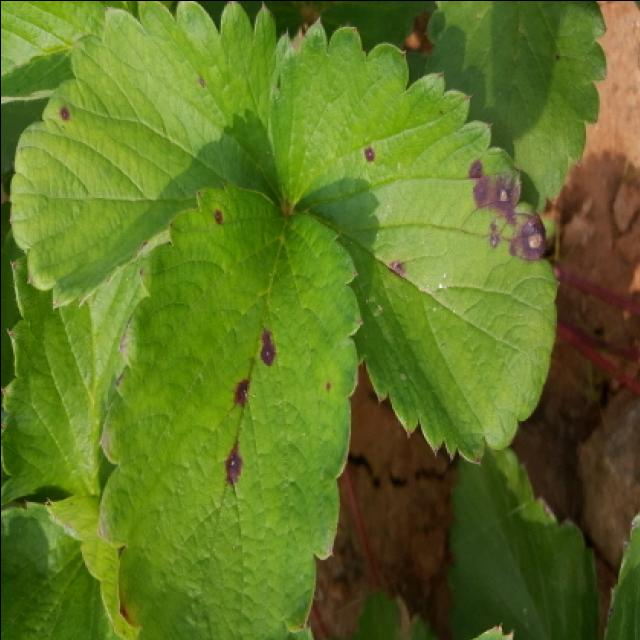Leaf Spot: (267, 18, 560, 464), (97, 181, 362, 640), (9, 2, 281, 309)
